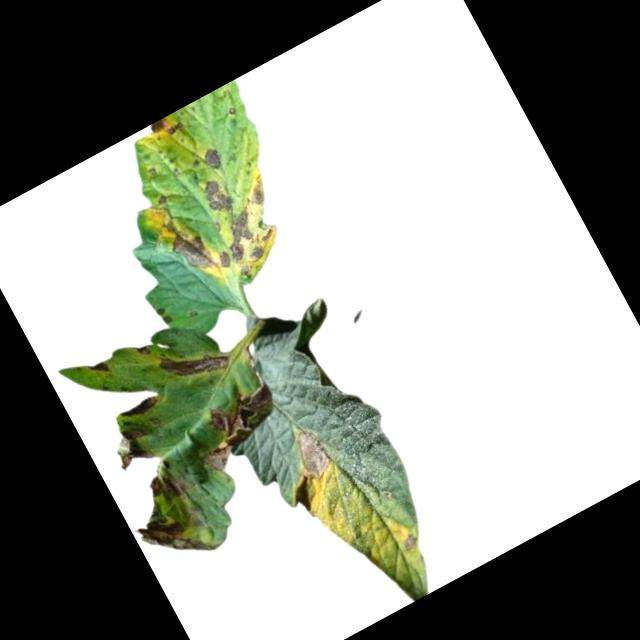Early_blight: (182, 157, 300, 286), (180, 380, 289, 478), (154, 330, 233, 398), (134, 502, 207, 574), (155, 208, 217, 281), (285, 421, 338, 482), (106, 420, 158, 474), (141, 462, 194, 512), (113, 390, 160, 427), (143, 111, 186, 147), (199, 143, 227, 173), (396, 527, 421, 554), (85, 355, 109, 378), (153, 301, 174, 325), (137, 340, 153, 357), (153, 192, 169, 206)
